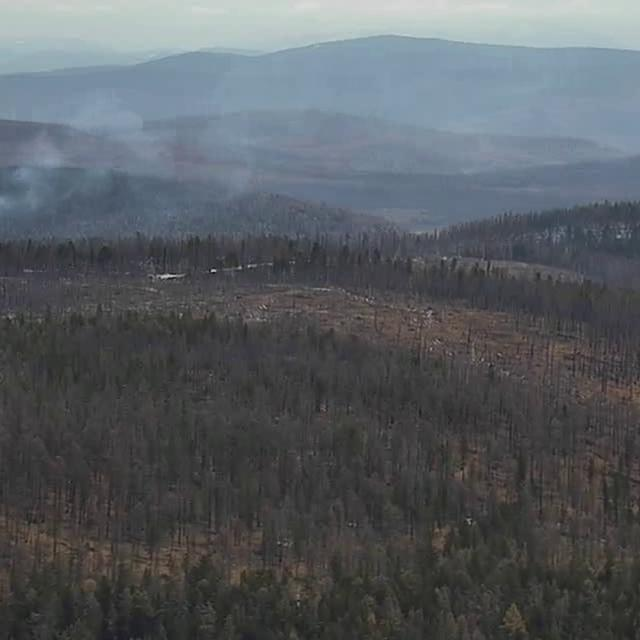Smoke: (1, 84, 241, 272)
